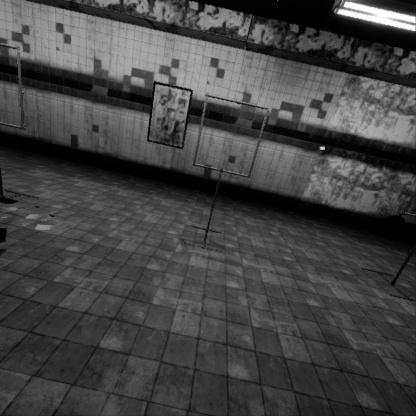gate: (192, 236, 275, 323)
